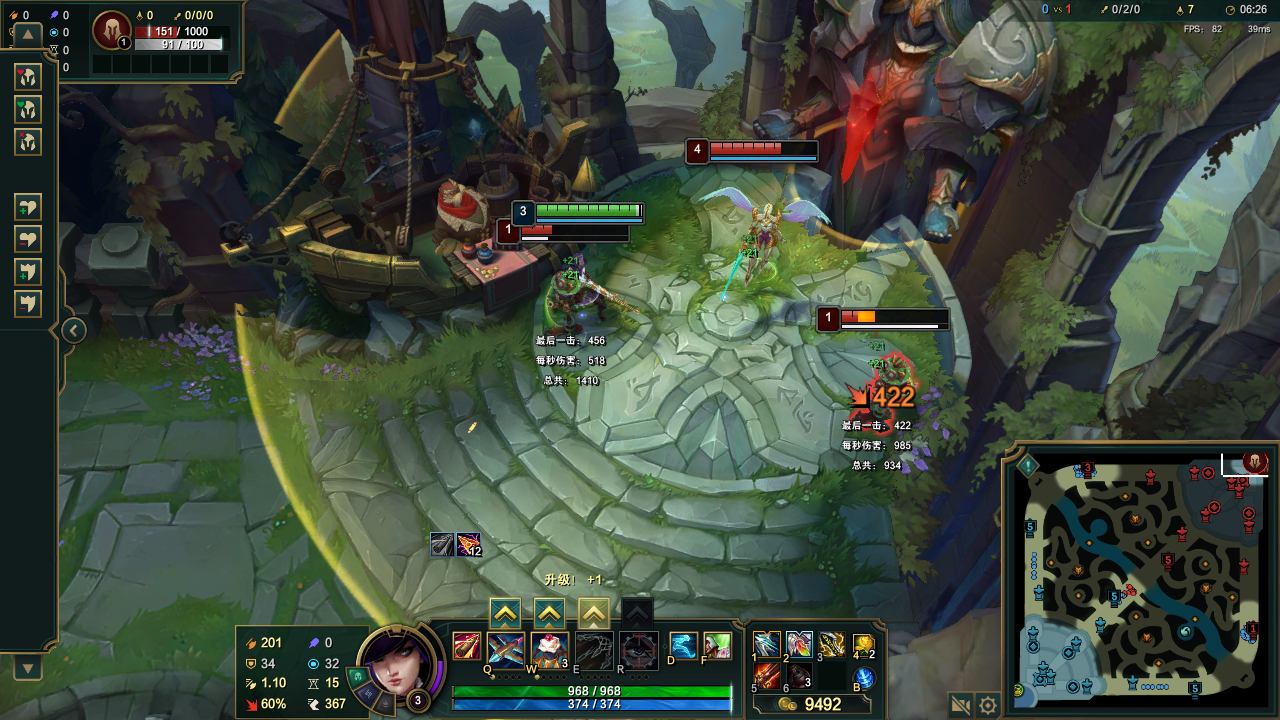DFYX: (521, 221, 637, 237), (839, 311, 955, 325), (710, 142, 825, 155)
